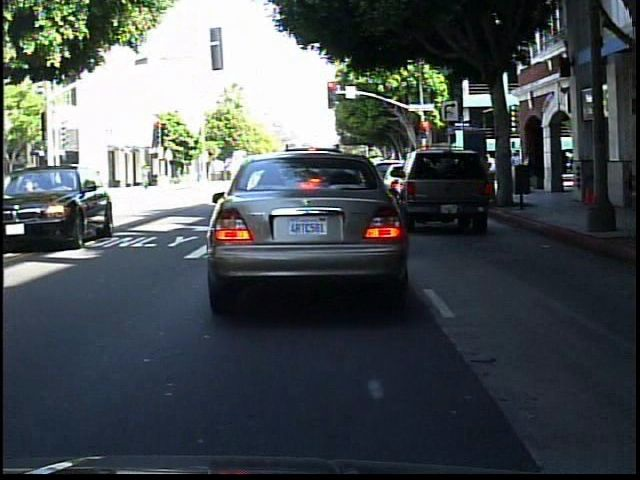person: (590, 143, 612, 217), (619, 141, 639, 220), (66, 161, 82, 200), (54, 163, 67, 206), (37, 168, 51, 206), (140, 162, 156, 192)
